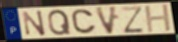C: (70, 8, 98, 35)
H: (143, 4, 174, 34)
N: (21, 10, 47, 37)
Q: (47, 8, 73, 37)
V: (93, 5, 120, 36)
Z: (119, 5, 147, 35)
